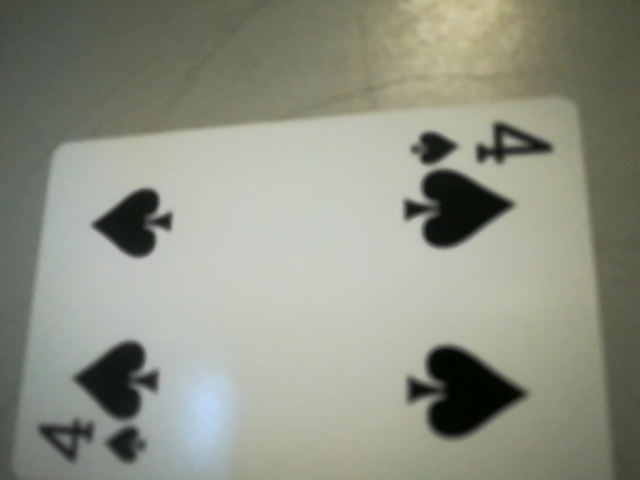ht 4: (391, 118, 567, 179)
